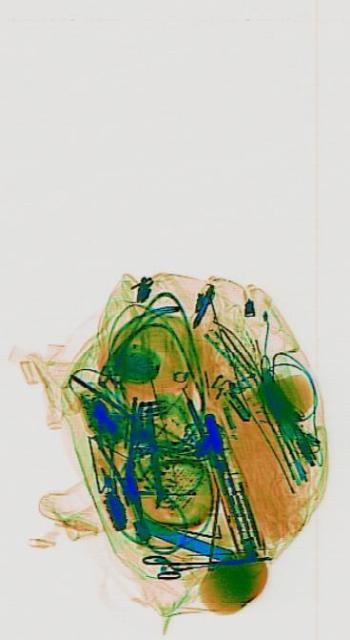Scissors: (141, 544, 271, 582)
